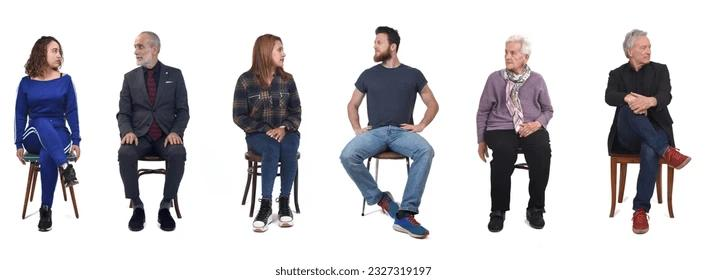jacket: (604, 60, 674, 154), (117, 61, 189, 139)
short sleeve shirt: (354, 62, 429, 129)
sweater: (475, 69, 555, 143), (12, 74, 82, 151), (232, 65, 301, 135)
trousers: (337, 124, 436, 212), (612, 103, 671, 213), (484, 127, 553, 213), (113, 135, 187, 211), (20, 118, 73, 207), (245, 130, 300, 203)
